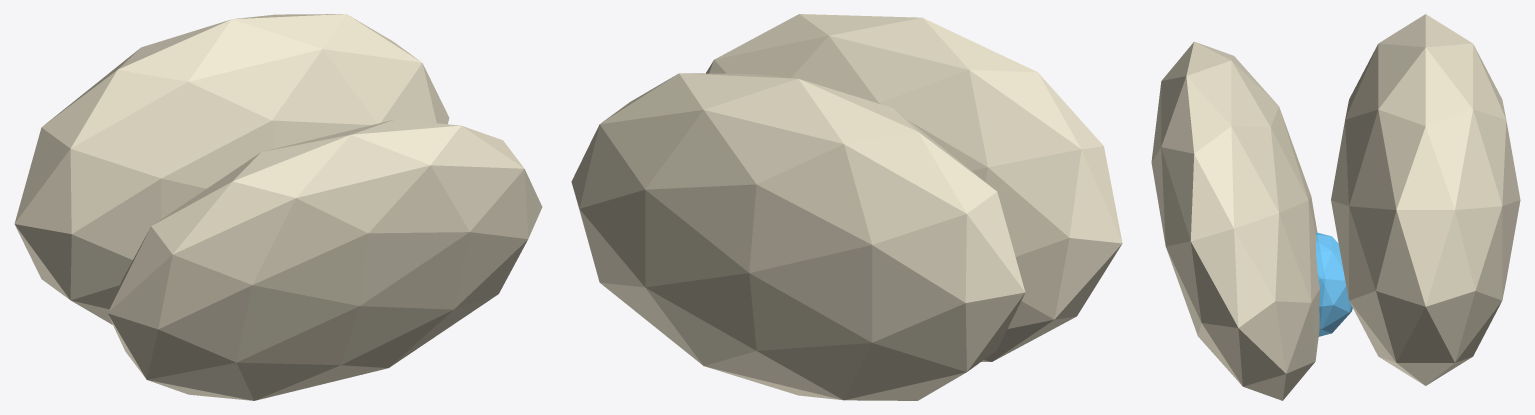
The model's file is underwater_shell_cache.glb.
The picture shows the model from 3 angles, left to right: view 1: azimuth 30°, elevation 25°; view 2: azimuth 150°, elevation 25°; view 3: azimuth 270°, elevation 25°; orthographic projection. The views are drawn at different scales.
Parts seen in each view (by area): view 1: shell_upper, shell_lower; view 2: shell_lower, shell_upper; view 3: shell_lower, shell_upper, pearl.
Boxes of the visible parts, bbox=[...] form: shell_upper: bbox=[107, 119, 542, 400]; shell_lower: bbox=[14, 14, 449, 324]; shell_lower: bbox=[571, 73, 1025, 400]; shell_upper: bbox=[705, 14, 1122, 361]; shell_lower: bbox=[1331, 14, 1520, 385]; shell_upper: bbox=[1151, 41, 1319, 400]; pearl: bbox=[1316, 232, 1352, 336].
Size of the model in its own units: 1.08 by 0.7524 by 0.7884.
